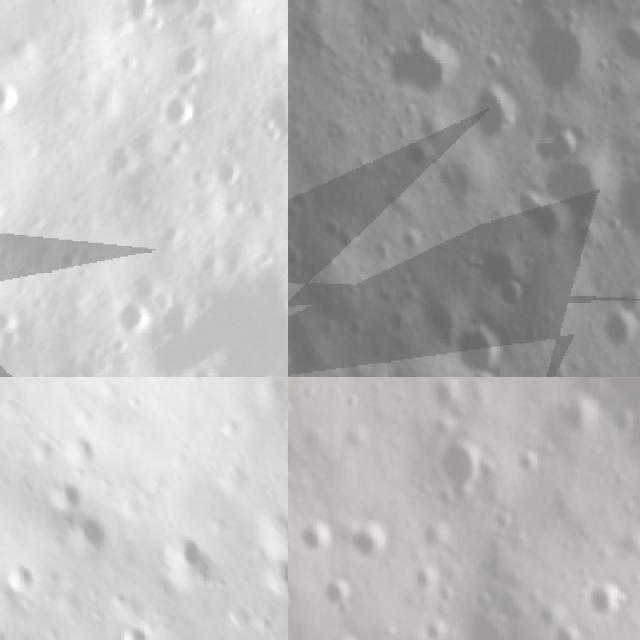crater: (105, 197, 288, 377), (0, 313, 192, 377), (509, 11, 597, 95), (533, 156, 613, 240), (382, 28, 454, 104), (231, 71, 288, 165), (145, 79, 214, 148), (459, 82, 524, 153), (98, 283, 164, 349), (93, 126, 157, 192), (155, 32, 221, 95), (88, 0, 185, 42), (439, 322, 512, 377), (586, 301, 640, 361), (0, 56, 40, 135), (514, 126, 579, 172), (436, 438, 487, 496), (180, 0, 237, 46), (163, 535, 208, 592), (610, 163, 640, 246), (485, 269, 536, 317), (342, 520, 392, 562), (583, 580, 631, 622), (170, 347, 231, 377), (320, 569, 358, 617), (607, 18, 640, 69), (557, 399, 598, 436), (424, 377, 462, 414), (45, 481, 84, 514), (298, 521, 332, 556), (512, 447, 542, 482), (557, 0, 615, 18), (114, 612, 151, 640), (261, 561, 288, 596), (413, 562, 442, 594), (424, 524, 454, 553), (11, 563, 35, 597), (424, 620, 455, 640), (492, 512, 514, 536), (549, 623, 580, 640), (281, 392, 288, 437), (328, 631, 359, 640)
